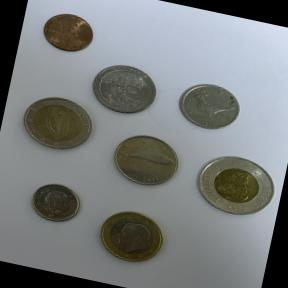coin: (186, 140, 286, 226), (86, 198, 178, 272), (101, 122, 190, 197), (11, 87, 100, 161), (84, 55, 166, 123), (27, 0, 102, 62), (21, 174, 88, 232)
